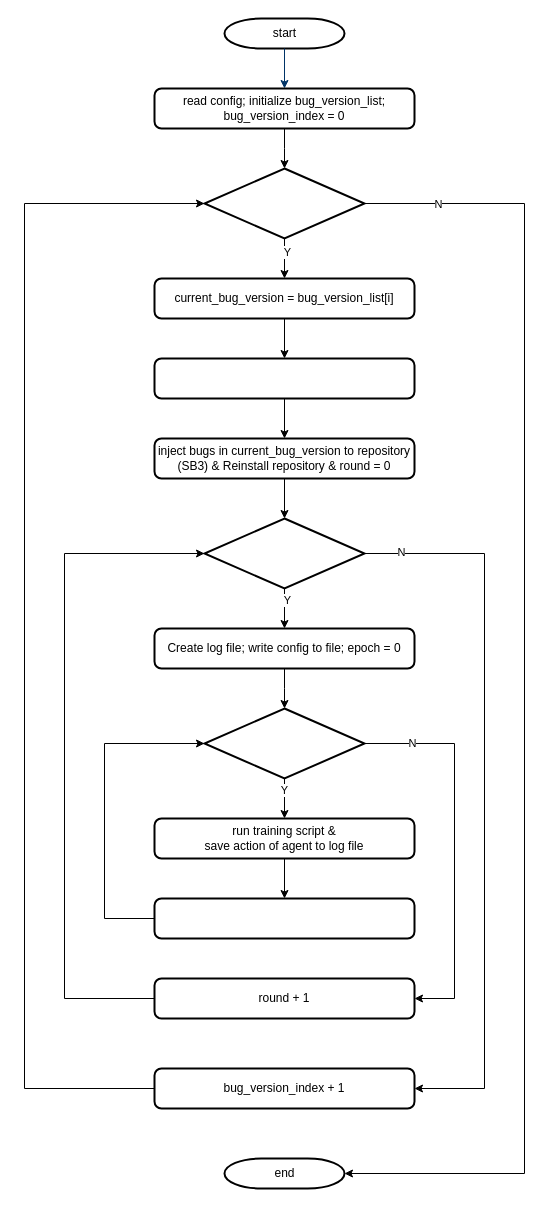
Image size: 550x1206. Some labels were removed from this diagram. Each missing label, with the centre of its shape:
"bug_version_index < len(bug_version_list)" belongs at pixel 284 203.
"epoch + 1" belongs at pixel 284 918.
"epoch < config.epoches" belongs at pixel 284 743.
"recover repository (SB3) via archive dir" belongs at pixel 284 378.
"round < config.rounds" belongs at pixel 284 553.
